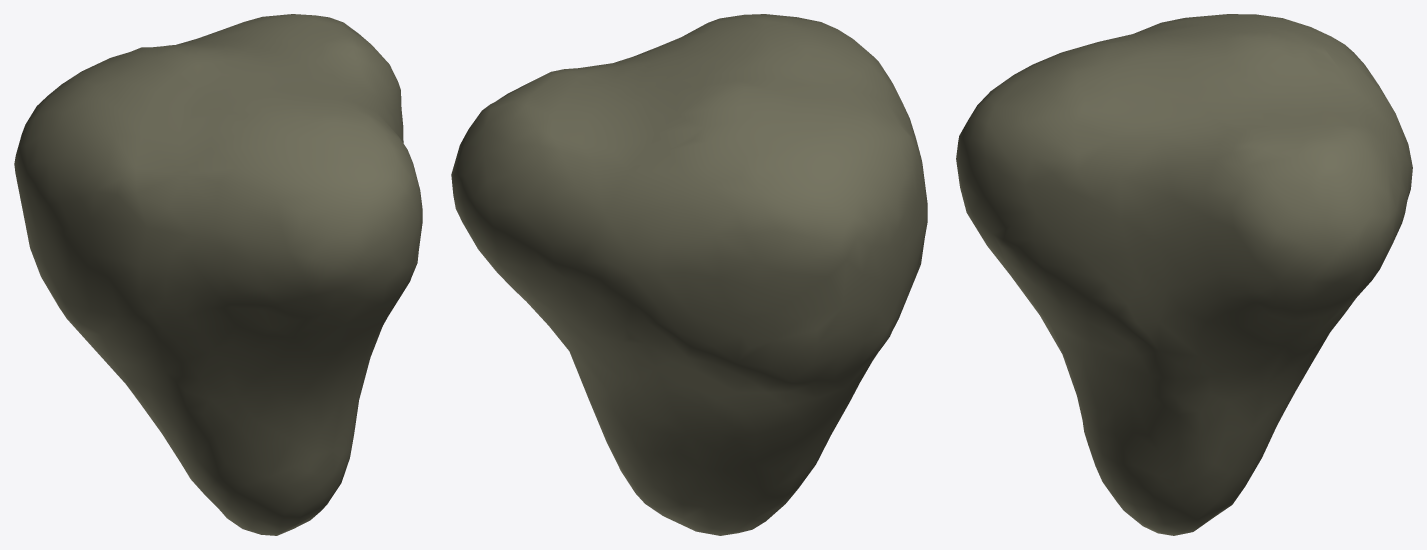
The model's file is RocaPlatform.fbx.
The picture shows the model from 3 angles, left to right: view 1: azimuth 30°, elevation 25°; view 2: azimuth 150°, elevation 25°; view 3: azimuth 270°, elevation 25°; orthographic projection. The views are drawn at different scales.
Visible parts, largest first — view 1: rock.002; view 2: rock.002; view 3: rock.002.
Boxes of the visible parts, x1,y1,x2,y2 form: rock.002: (14,14,422,535); rock.002: (451,14,927,535); rock.002: (956,14,1412,535).
Bounding box in the file's own units: 240 × 281 × 250.
